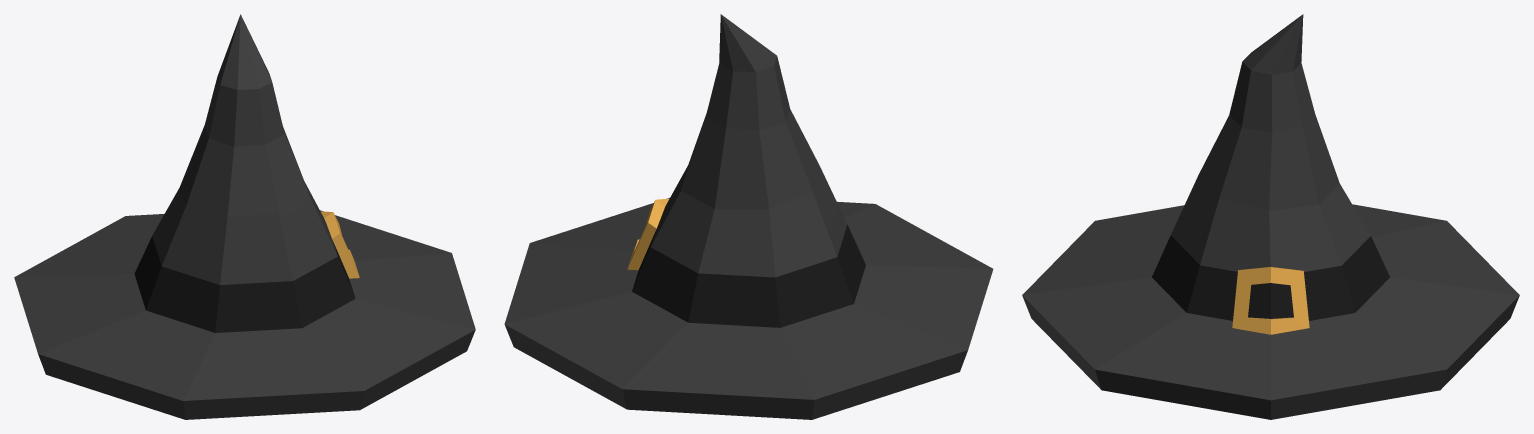
The model's file is Chapéu_Bruxa.fbx.
The picture shows the model from 3 angles, left to right: view 1: azimuth 30°, elevation 25°; view 2: azimuth 150°, elevation 25°; view 3: azimuth 270°, elevation 25°; orthographic projection. The views are drawn at different scales.
Visible parts, largest first — view 1: hat-witch; view 2: hat-witch; view 3: hat-witch.
Boxes of the visible parts, x1,y1,x2,y2 form: hat-witch: (14,14,475,419); hat-witch: (504,14,993,419); hat-witch: (1022,14,1519,419).
Size of the model in its own units: 170 by 117 by 170.
